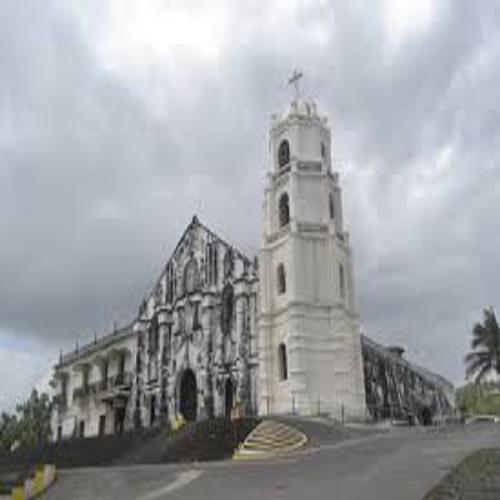Daraga Church: (130, 66, 375, 436)
